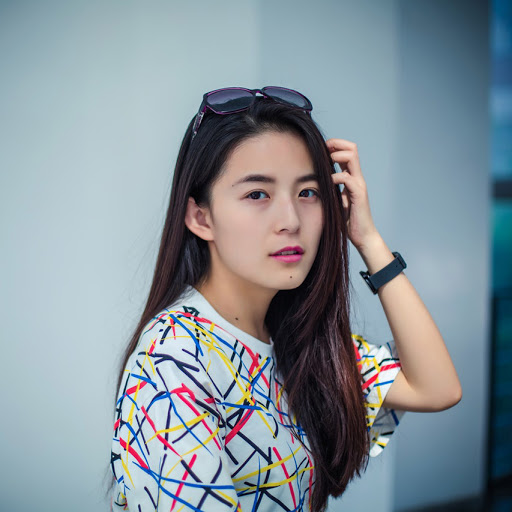person: (104, 72, 465, 512)
